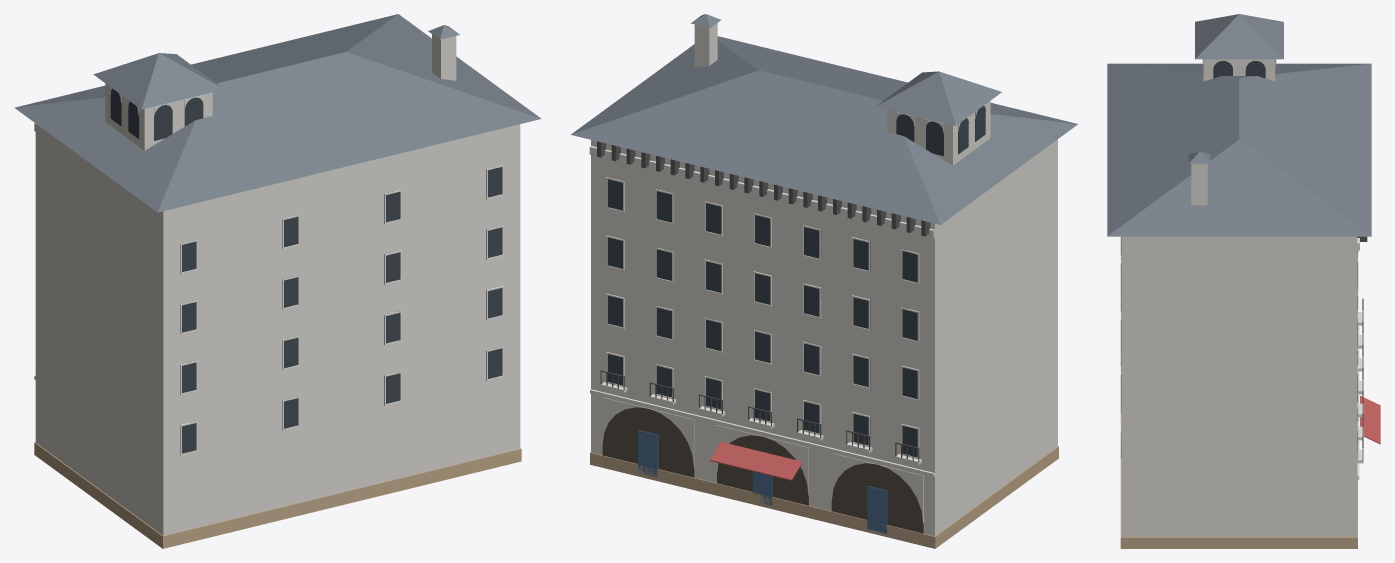
File: ca_classical5_shops.glb
3 renders of one model, left to right at view 1: azimuth 30°, elevation 25°; view 2: azimuth 150°, elevation 25°; view 3: azimuth 270°, elevation 25°, orthographic. The views are drawn at different scales.
Parts seen in each view (by area): view 1: ca_classical5_shops; view 2: ca_classical5_shops; view 3: ca_classical5_shops.
Boxes of the visible parts, bbox=[...] form: ca_classical5_shops: bbox=[14, 14, 541, 548]; ca_classical5_shops: bbox=[571, 14, 1077, 548]; ca_classical5_shops: bbox=[1107, 14, 1380, 548].
Bounding box in the file's own units: 22.6 × 24.4 × 15.1.
